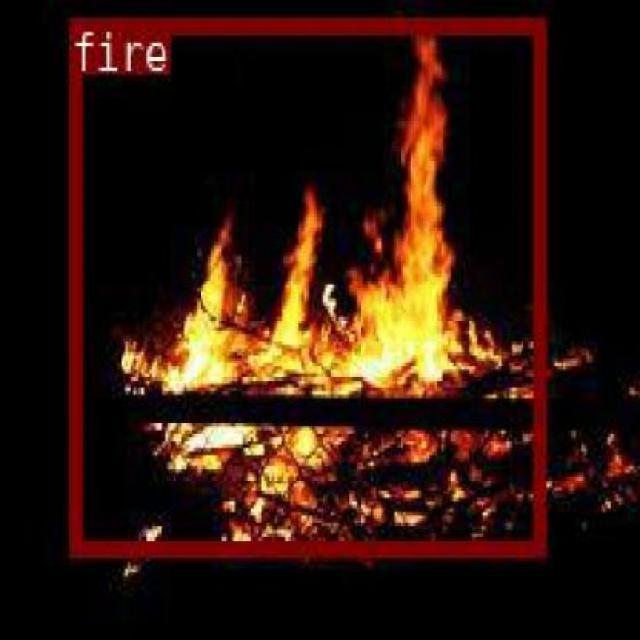Fire: (67, 17, 544, 554)
